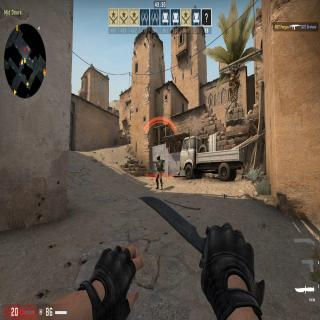CT-Body: (154, 154, 164, 190)
CT-Head: (156, 154, 160, 161)
